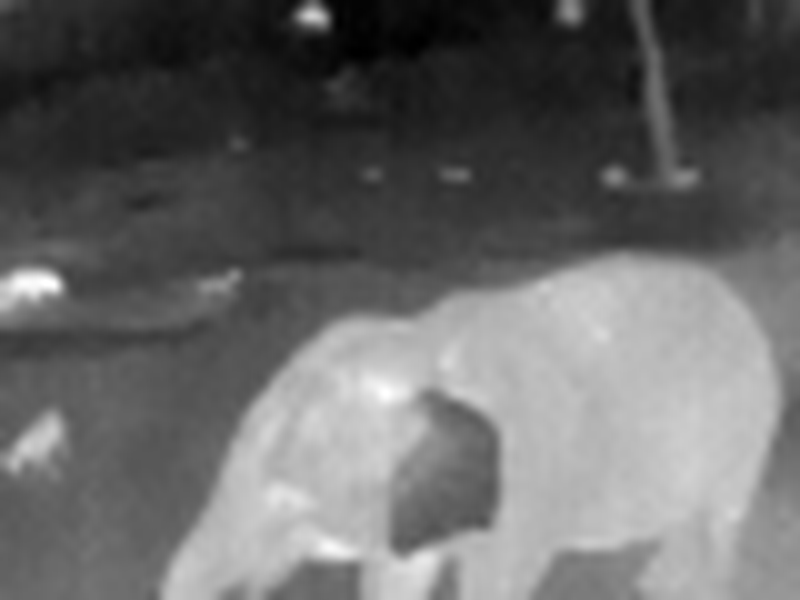elephant: (164, 260, 797, 600)
